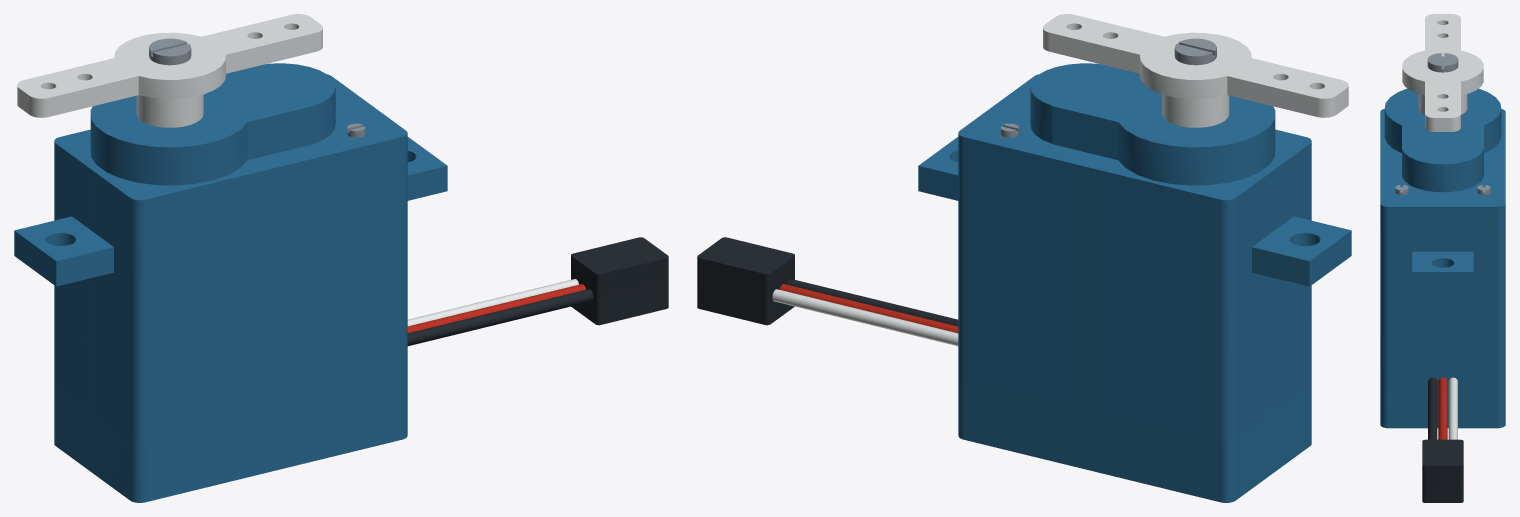
File: servo.glb
The picture shows the model from 3 angles, left to right: view 1: azimuth 30°, elevation 25°; view 2: azimuth 150°, elevation 25°; view 3: azimuth 270°, elevation 25°; orthographic projection. The views are drawn at different scales.
Parts seen in each view (by area): view 1: Servo_upper_shell, Servo_lower_shell, Gear_head, Servo_horn, Mounting_ears, Servo_plug, Cable_black, Splined_shaft, Cable_red, Cable_white, Horn_screw; view 2: Servo_upper_shell, Servo_lower_shell, Gear_head, Servo_horn, Mounting_ears, Servo_plug, Cable_white, Splined_shaft, Cable_red, Cable_black, Horn_screw; view 3: Servo_upper_shell, Servo_lower_shell, Gear_head, Servo_horn, Servo_plug, Mounting_ears, Cable_black, Cable_white, Cable_red, Horn_screw, Splined_shaft.
Boxes of the visible parts, box(x1,y1,x2,y2) form: Servo_upper_shell: box(54, 74, 407, 375); Servo_lower_shell: box(54, 309, 407, 502); Gear_head: box(90, 63, 335, 185); Servo_horn: box(17, 14, 322, 117); Mounting_ears: box(14, 137, 447, 286); Servo_plug: box(571, 237, 668, 325); Cable_black: box(407, 289, 593, 346); Splined_shaft: box(136, 94, 203, 127); Cable_red: box(407, 284, 585, 333); Cable_white: box(407, 279, 578, 326); Horn_screw: box(149, 38, 191, 65); Servo_upper_shell: box(958, 74, 1311, 375); Servo_lower_shell: box(958, 309, 1311, 502); Gear_head: box(1030, 63, 1275, 185); Servo_horn: box(1043, 14, 1348, 117); Mounting_ears: box(918, 137, 1351, 286); Servo_plug: box(697, 237, 794, 325); Cable_white: box(772, 289, 958, 346); Splined_shaft: box(1162, 94, 1229, 127); Cable_red: box(780, 284, 958, 333); Cable_black: box(787, 279, 958, 326); Horn_screw: box(1174, 38, 1216, 65); Servo_upper_shell: box(1380, 109, 1505, 335); Servo_lower_shell: box(1380, 332, 1505, 428); Gear_head: box(1384, 88, 1501, 192); Servo_horn: box(1402, 14, 1483, 131); Servo_plug: box(1422, 439, 1463, 502); Mounting_ears: box(1412, 251, 1473, 290); Cable_black: box(1428, 377, 1437, 439); Cable_white: box(1448, 377, 1457, 439); Cable_red: box(1438, 377, 1447, 439); Horn_screw: box(1427, 53, 1458, 72); Splined_shaft: box(1418, 94, 1467, 114).
Size of the model in its own units: 0.052 by 0.032 by 0.0122.
Materials: 5 (5 with a texture image).
